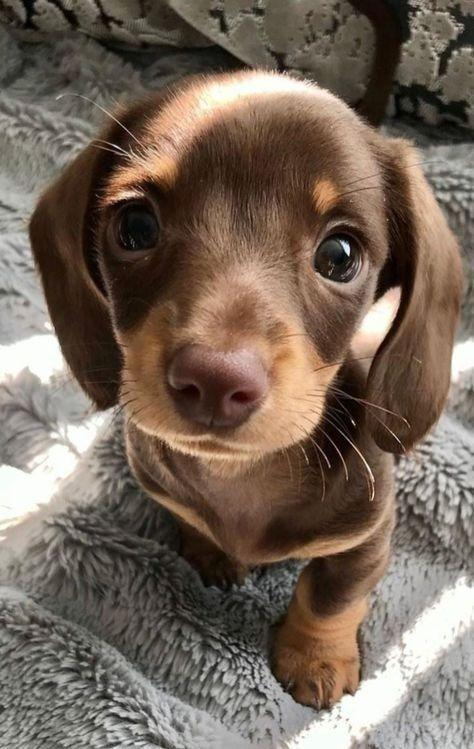puppy-dog: (28, 65, 468, 713)
